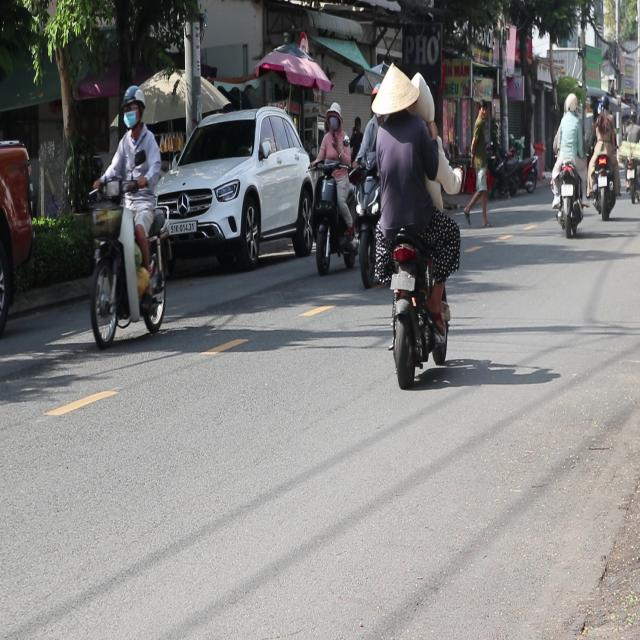helmet: (408, 71, 435, 131), (121, 83, 146, 133)
licenseplate: (371, 40, 460, 388), (84, 81, 173, 347), (312, 100, 356, 272)
motorcyclist: (370, 61, 420, 123), (325, 100, 342, 132)
nohelmet: (390, 271, 414, 290)
